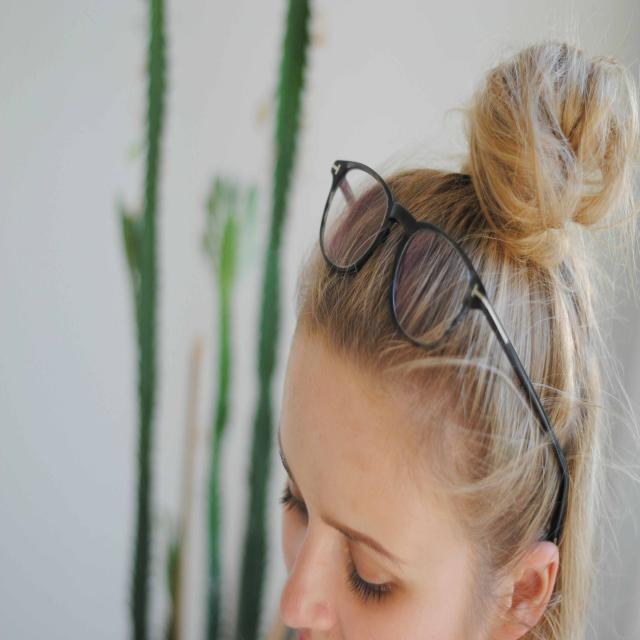glasses: (313, 121, 602, 567)
